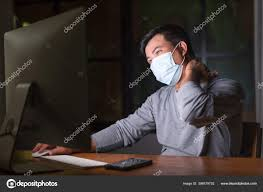mask: (150, 52, 183, 87)
